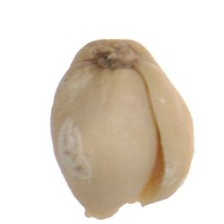L1: (86, 166, 181, 220), (90, 39, 142, 70)
L2: (50, 39, 194, 219)
